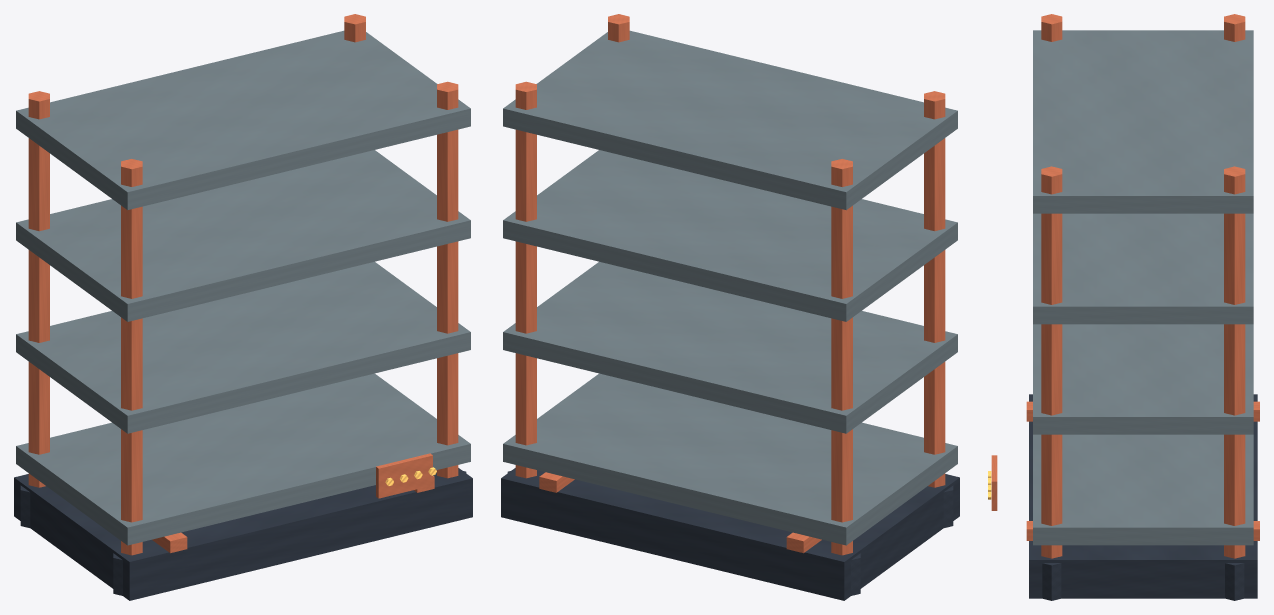
The model's file is atlas100-s022-a06.glb.
3 views of the same model, side by side, from view 1: azimuth 30°, elevation 25°; view 2: azimuth 150°, elevation 25°; view 3: azimuth 270°, elevation 25° (orthographic).
Parts seen in each view (by area): view 1: atlas100-s022-a06:part-014, atlas100-s022-a06:part-012, atlas100-s022-a06:part-013, atlas100-s022-a06:part-011, atlas100-s022-a06:part-000, atlas100-s022-a06:part-005, atlas100-s022-a06:part-009, atlas100-s022-a06:part-003, atlas100-s022-a06:part-015; view 2: atlas100-s022-a06:part-014, atlas100-s022-a06:part-011, atlas100-s022-a06:part-012, atlas100-s022-a06:part-013, atlas100-s022-a06:part-000, atlas100-s022-a06:part-003, atlas100-s022-a06:part-007, atlas100-s022-a06:part-005; view 3: atlas100-s022-a06:part-014, atlas100-s022-a06:part-013, atlas100-s022-a06:part-011, atlas100-s022-a06:part-012, atlas100-s022-a06:part-000, atlas100-s022-a06:part-009, atlas100-s022-a06:part-007, atlas100-s022-a06:part-008, atlas100-s022-a06:part-010, atlas100-s022-a06:part-003, atlas100-s022-a06:part-005, atlas100-s022-a06:part-015.
Part boxes in pixels (<box>): atlas100-s022-a06:part-014: <box>16,30,470,210</box>; atlas100-s022-a06:part-012: <box>16,261,470,433</box>; atlas100-s022-a06:part-013: <box>16,150,470,321</box>; atlas100-s022-a06:part-011: <box>16,373,470,545</box>; atlas100-s022-a06:part-000: <box>14,468,472,600</box>; atlas100-s022-a06:part-005: <box>121,159,142,555</box>; atlas100-s022-a06:part-009: <box>437,81,458,478</box>; atlas100-s022-a06:part-003: <box>28,91,49,487</box>; atlas100-s022-a06:part-015: <box>376,453,432,498</box>; atlas100-s022-a06:part-014: <box>503,30,957,210</box>; atlas100-s022-a06:part-011: <box>503,373,957,545</box>; atlas100-s022-a06:part-012: <box>503,261,957,433</box>; atlas100-s022-a06:part-013: <box>503,150,957,321</box>; atlas100-s022-a06:part-000: <box>501,468,959,600</box>; atlas100-s022-a06:part-003: <box>831,159,852,555</box>; atlas100-s022-a06:part-007: <box>515,81,536,478</box>; atlas100-s022-a06:part-005: <box>924,91,945,487</box>; atlas100-s022-a06:part-014: <box>1033,30,1253,213</box>; atlas100-s022-a06:part-013: <box>1033,213,1253,324</box>; atlas100-s022-a06:part-011: <box>1033,434,1253,545</box>; atlas100-s022-a06:part-012: <box>1033,324,1253,434</box>; atlas100-s022-a06:part-000: <box>1029,394,1257,598</box>; atlas100-s022-a06:part-009: <box>1041,166,1062,558</box>; atlas100-s022-a06:part-007: <box>1224,166,1245,558</box>; atlas100-s022-a06:part-008: <box>1225,563,1244,600</box>; atlas100-s022-a06:part-010: <box>1042,563,1061,600</box>; atlas100-s022-a06:part-003: <box>1224,14,1245,41</box>; atlas100-s022-a06:part-005: <box>1041,14,1062,41</box>; atlas100-s022-a06:part-015: <box>991,455,997,510</box>.
Size of the model in its own units: 2.47 by 2.84 by 1.66.
Materials: 4 (4 with a texture image).
